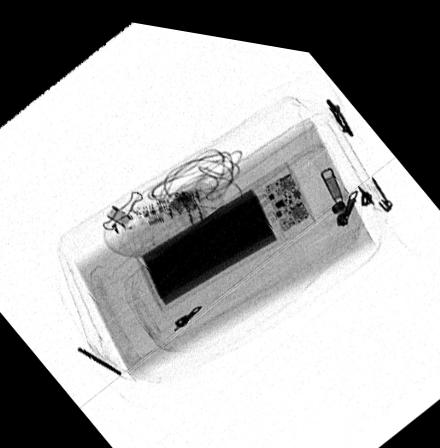Powerbank: (132, 151, 317, 306)
